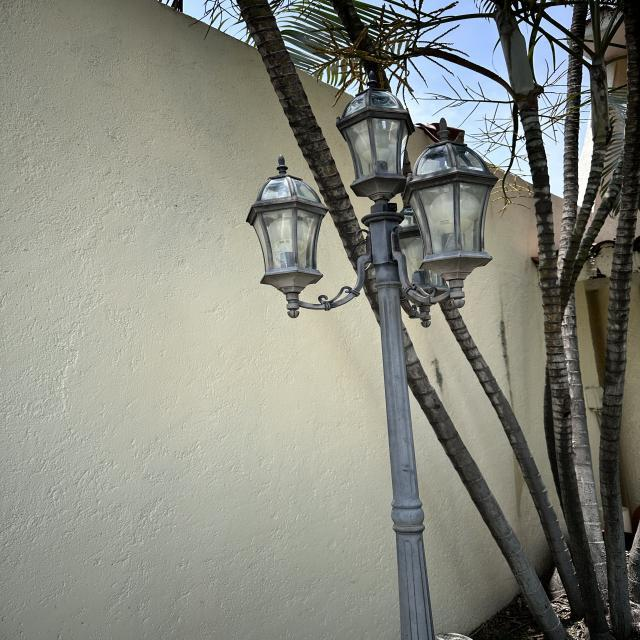hidden camera: (390, 205, 394, 209)
